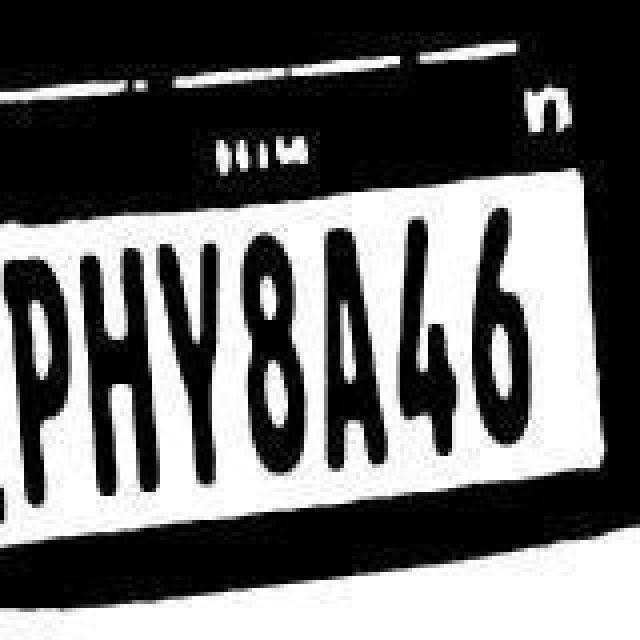4: (396, 212, 460, 468)
6: (468, 206, 532, 450)
8: (238, 232, 306, 488)
A: (322, 228, 390, 476)
H: (78, 236, 162, 500)
P: (4, 246, 76, 506)
Y: (156, 230, 228, 490)
